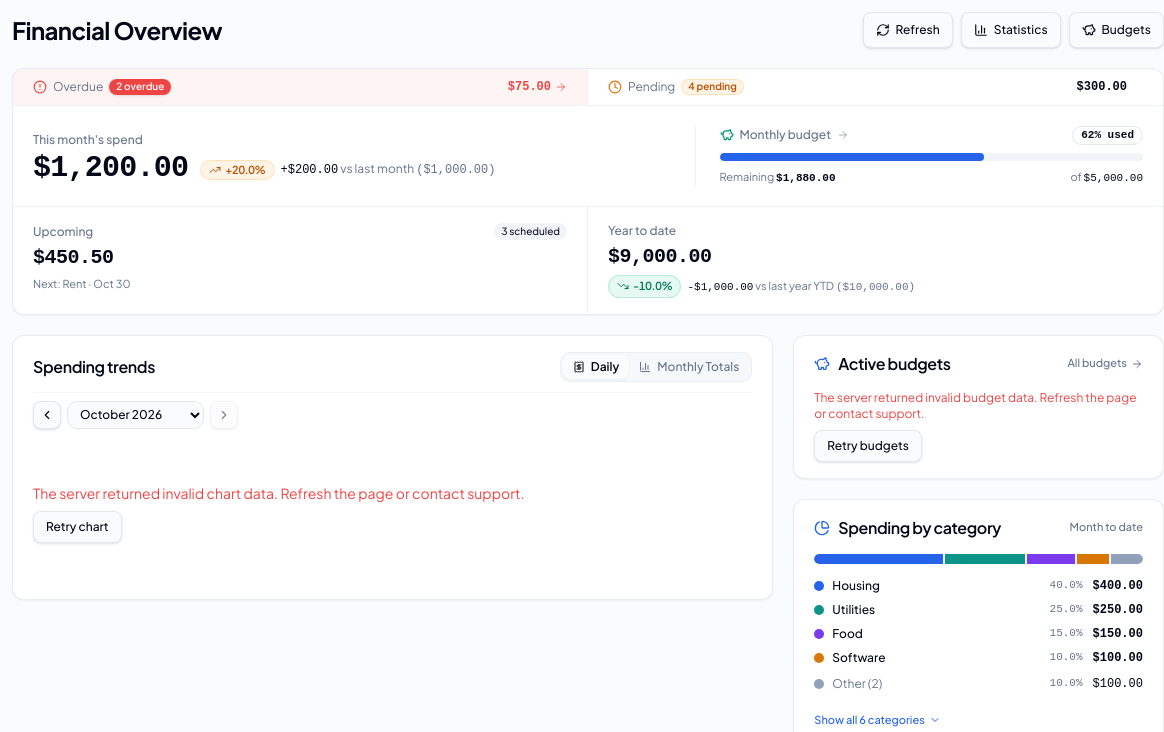
Test: DashboardPage category spending › caps category rows to top 4 with an Other summary and expands on demand
Expected: the text "Housing" is shown, [832,578,880,594]
Expected: the text "Other (2)" is shown, [832,676,882,692]
Click the button "Show all 6 categories": (878, 720) [814,712,941,728]
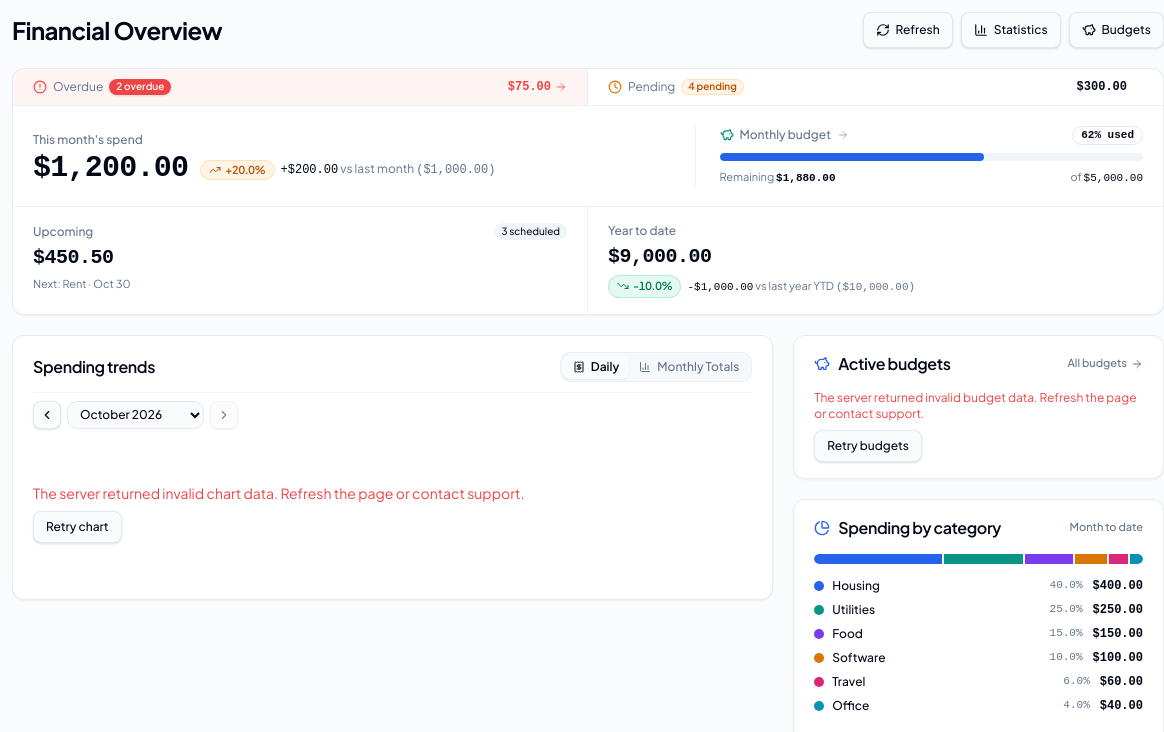
Expected: the text "Travel" is shown, [832,674,865,690]
Expected: the text "Office" is shown, [832,698,869,714]
Expected: the text "Other (2)" is gone
